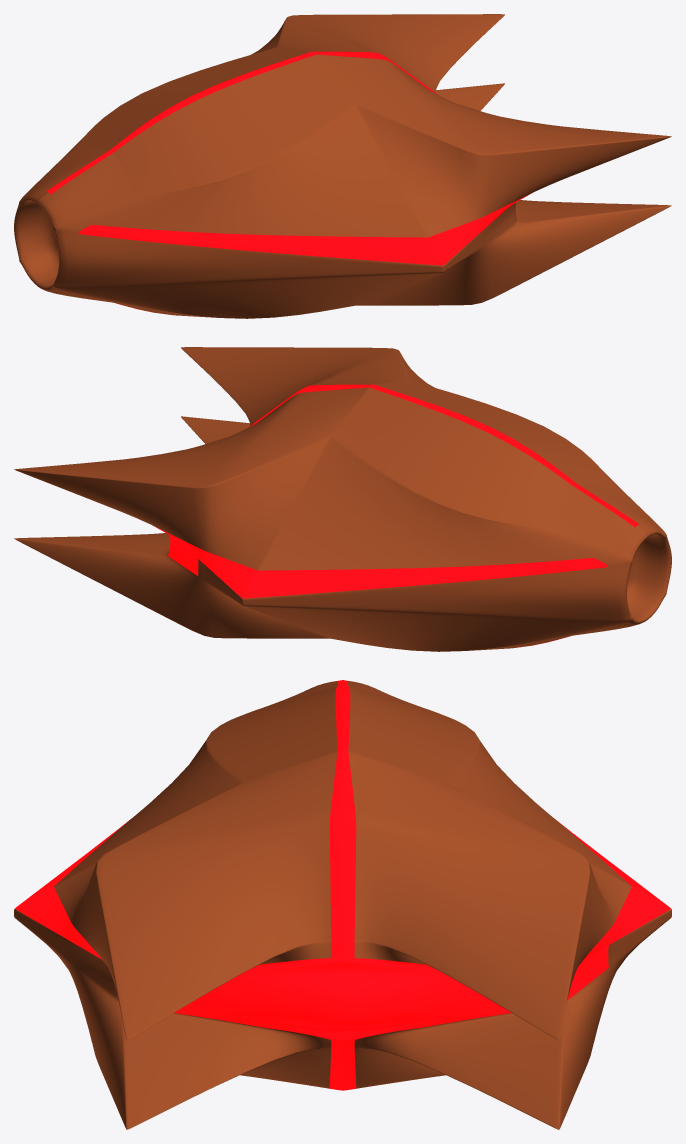
Rendered from swarmling_ship.glb.
The picture shows the model from 3 angles, top to bottom: view 1: azimuth 30°, elevation 25°; view 2: azimuth 150°, elevation 25°; view 3: azimuth 270°, elevation 25°; orthographic projection. The views are drawn at different scales.
Parts seen in each view (by area): view 1: Cube; view 2: Cube; view 3: Cube.
Part boxes in pixels (x1=…): Cube: x1=14, y1=14, x2=671, y2=318; Cube: x1=14, y1=347, x2=671, y2=651; Cube: x1=14, y1=680, x2=671, y2=1129.
Size of the model in its own units: 5.22 by 2.26 by 4.16.
